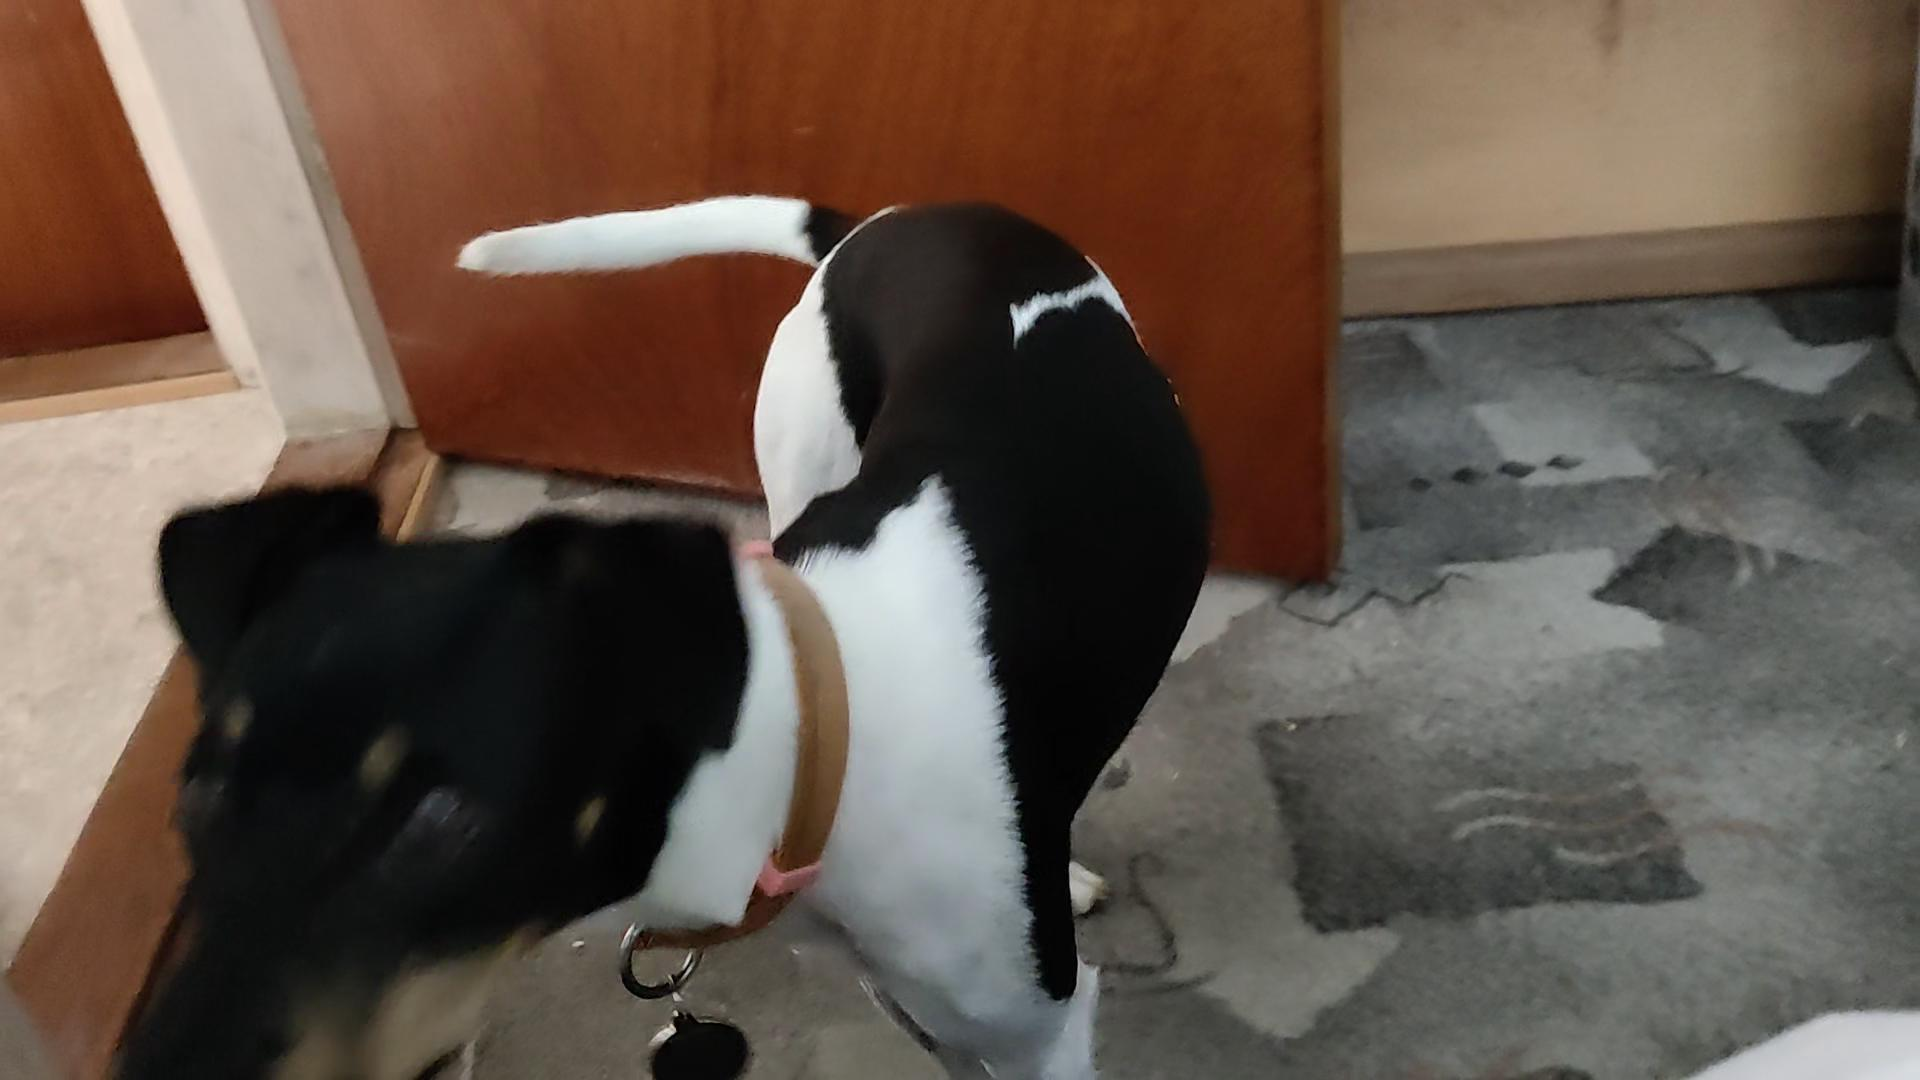Dog: (84, 175, 1261, 1079)
